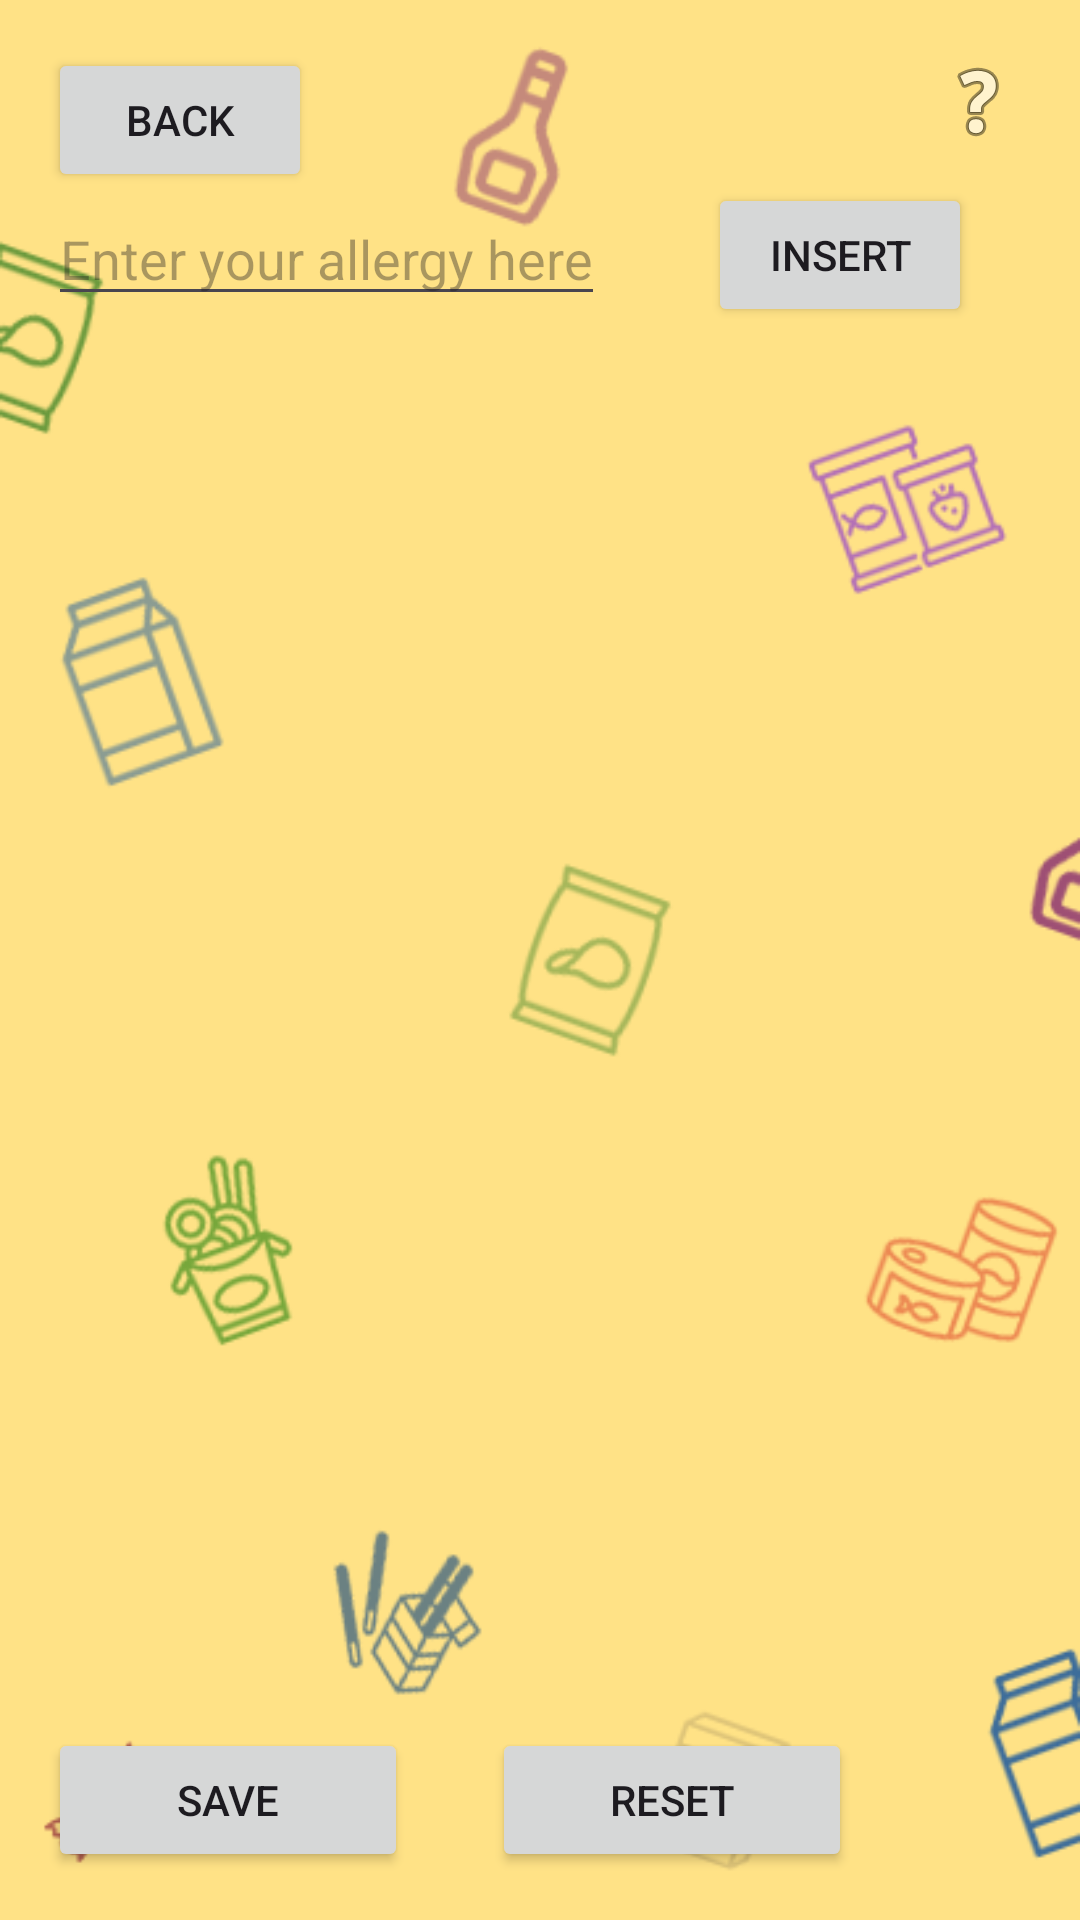

Icons on this 1080w x 1920h Android screen, each with the point to tap as point (x, y):
help: point (978, 102)
